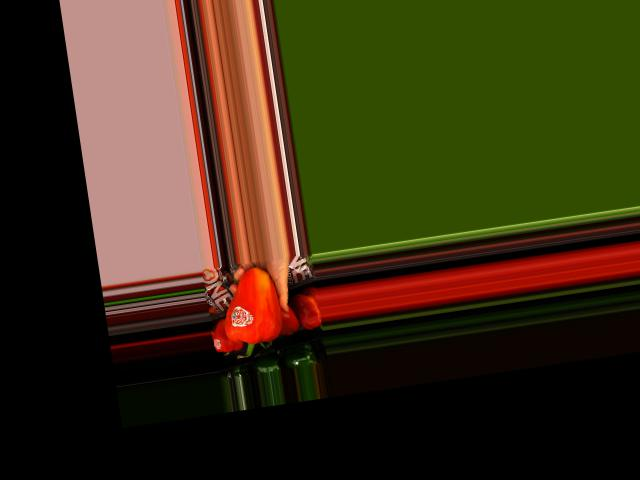bell_pepper: (215, 265, 293, 361)
